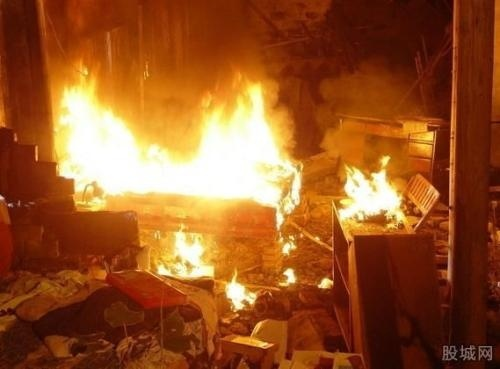fire: (48, 74, 302, 207), (339, 155, 407, 224), (158, 228, 216, 278), (224, 271, 256, 311)
